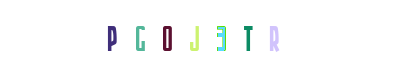3: (182, 0, 262, 80)
G: (136, 0, 216, 80)
J: (162, 0, 242, 80)
O: (159, 0, 239, 80)
P: (102, 0, 182, 80)
R: (208, 0, 288, 80)
T: (189, 0, 269, 80)
